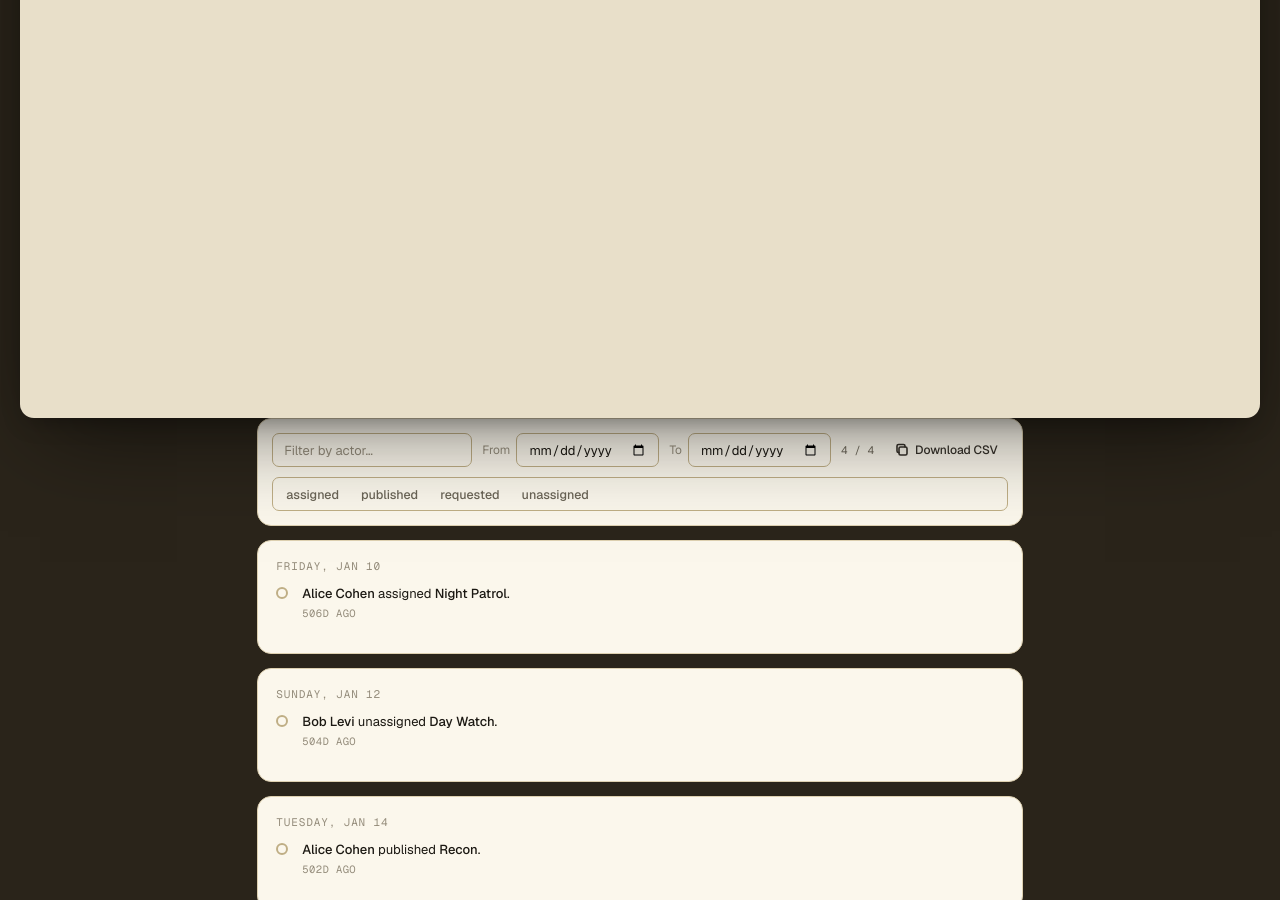
it: ActivityScreen › filters by actor (free-text contains, case-insensitive)
The width and height of the screenshot is (1280, 900).
(page scrolled)
Type "alice" into the field labelled "Filter by actor…" at point(372, 450), box [272,433,472,467]
(page scrolled)
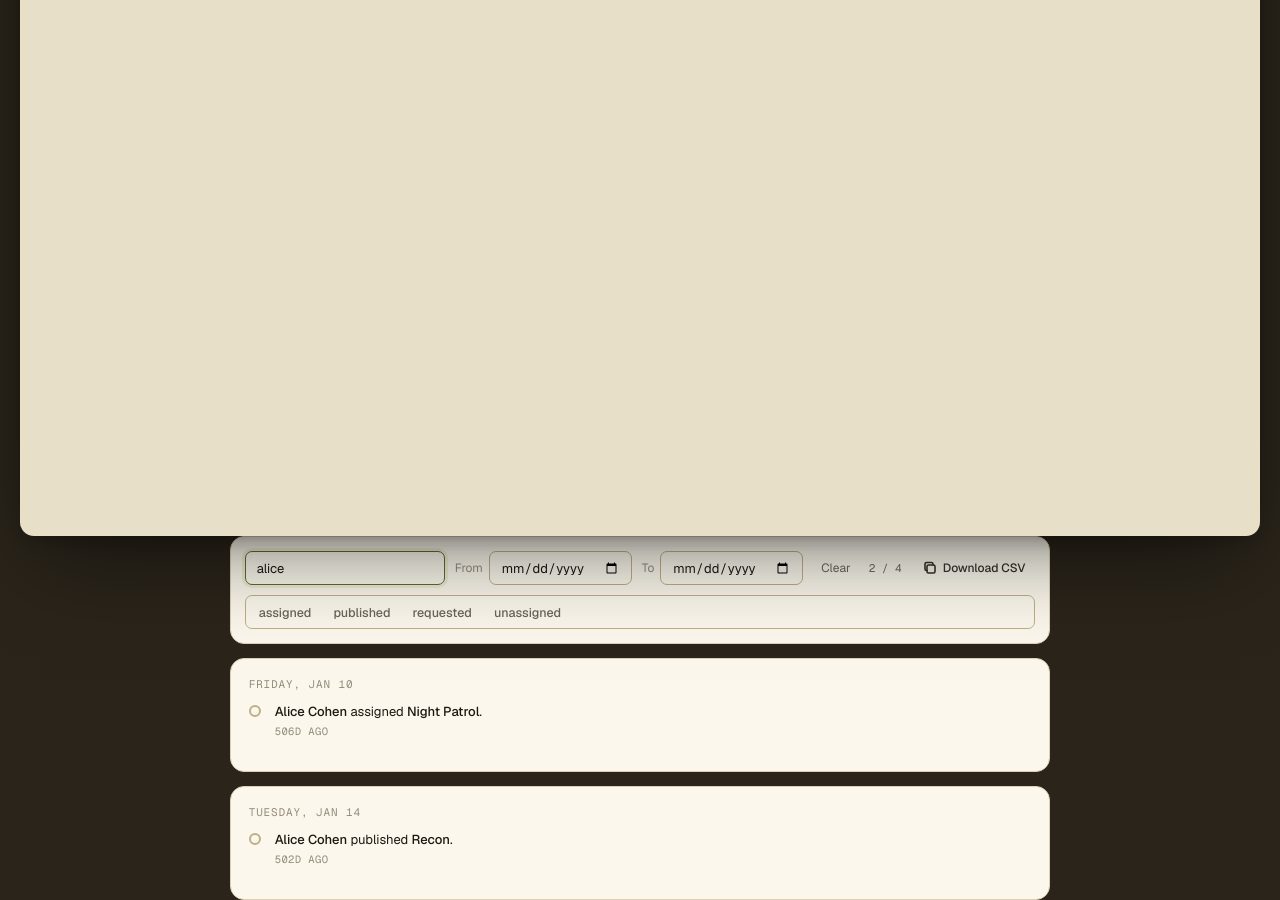
Expected: the text "Alice Cohen" is shown 2 times, [275,703,347,720]; [275,831,347,848]
Expected: the text "Bob Levi" is gone
Expected: the text "2 / 4" is shown, [869,561,902,575]
